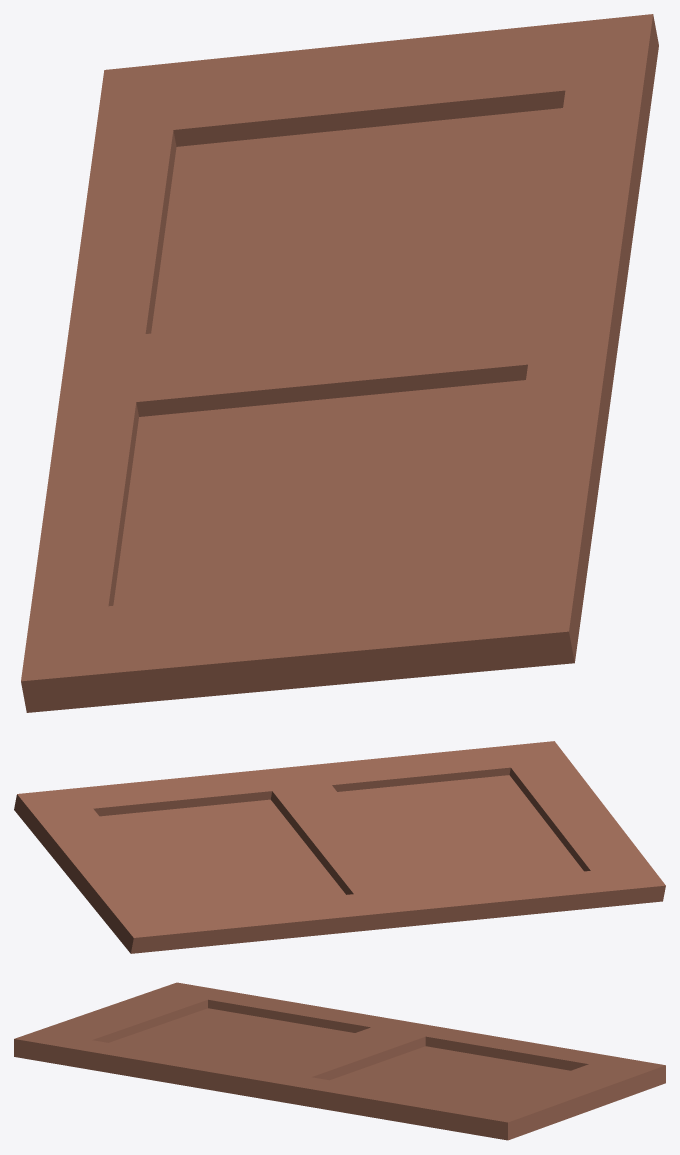
The model's file is Building_Door_A.fbx.
The picture shows the model from 3 angles, top to bottom: view 1: azimuth 30°, elevation 25°; view 2: azimuth 150°, elevation 25°; view 3: azimuth 270°, elevation 25°; orthographic projection. The views are drawn at different scales.
Parts seen in each view (by area): view 1: Building Door A; view 2: Building Door A; view 3: Building Door A.
Boxes of the visible parts, x1=… form: Building Door A: x1=21, y1=14, x2=658, y2=712; Building Door A: x1=14, y1=741, x2=665, y2=953; Building Door A: x1=14, y1=982, x2=665, y2=1140.
Size of the model in its own units: 993 by 218 by 1157.
